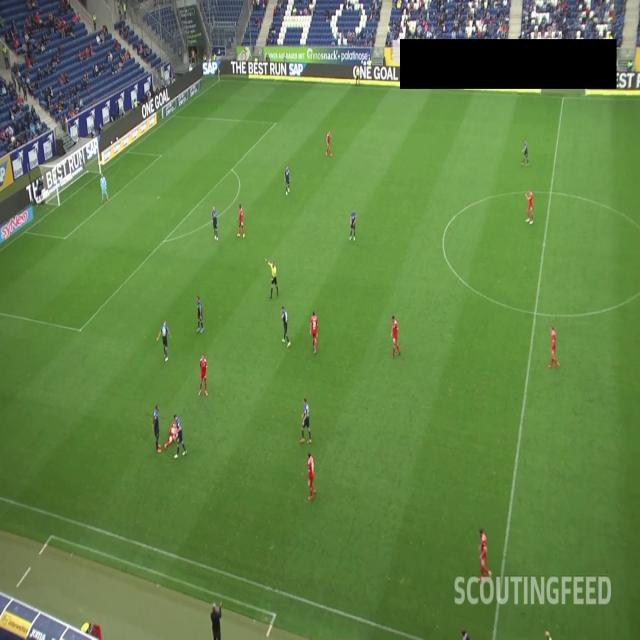ball: (169, 436, 173, 445)
player: (475, 528, 493, 586), (389, 312, 403, 363), (548, 324, 562, 374), (304, 447, 316, 503), (308, 309, 321, 358), (174, 412, 187, 458), (279, 307, 291, 349), (209, 206, 220, 248), (152, 406, 162, 452), (163, 419, 178, 449), (280, 165, 292, 201), (197, 356, 207, 396), (234, 204, 244, 244), (159, 320, 168, 364), (524, 190, 534, 229), (193, 298, 203, 332), (96, 175, 109, 201), (324, 124, 332, 164), (349, 210, 357, 242), (522, 139, 530, 165)
